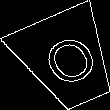O_SE: (33, 28, 101, 93)
